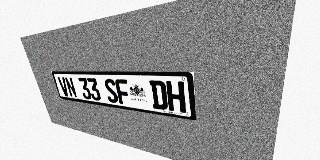3: (87, 78, 101, 101), (78, 78, 92, 100)
D: (149, 80, 168, 110)
F: (114, 79, 131, 105)
H: (166, 81, 186, 113)
N: (64, 77, 78, 98)
S: (103, 79, 119, 104)
V: (57, 77, 70, 97)
